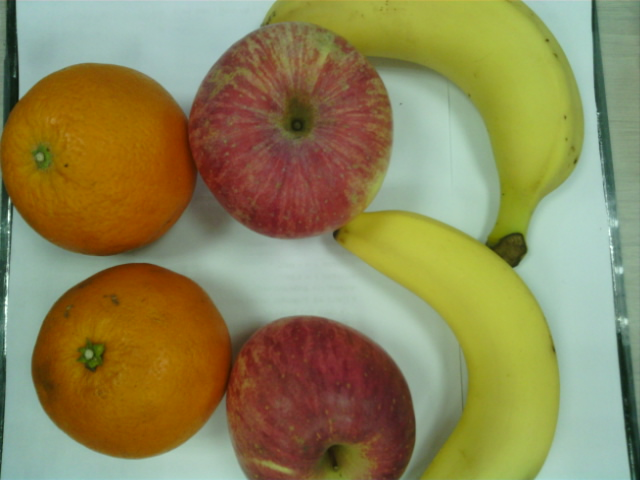normal_apple: (189, 22, 394, 239), (226, 316, 416, 480)
normal_banana: (262, 1, 585, 267), (335, 210, 559, 480)
normal_orange: (31, 262, 230, 459), (6, 63, 187, 257)
